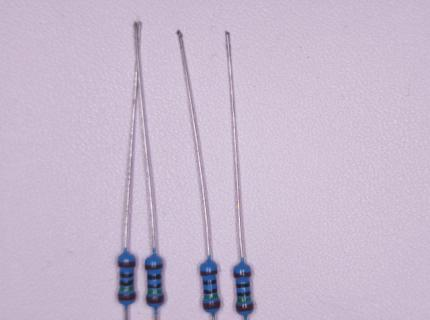Black band: (120, 272, 134, 279), (120, 280, 134, 286), (203, 280, 217, 286), (148, 274, 161, 280), (237, 291, 251, 296), (148, 283, 161, 288), (237, 283, 250, 288), (204, 289, 217, 294)
Brown band: (236, 302, 253, 311), (147, 295, 164, 303), (203, 301, 220, 309), (118, 293, 136, 300), (145, 264, 163, 270), (234, 271, 251, 277), (200, 270, 218, 275), (119, 262, 136, 267)
Green band: (120, 286, 134, 292), (237, 297, 251, 302), (205, 294, 218, 299), (148, 290, 162, 294)
